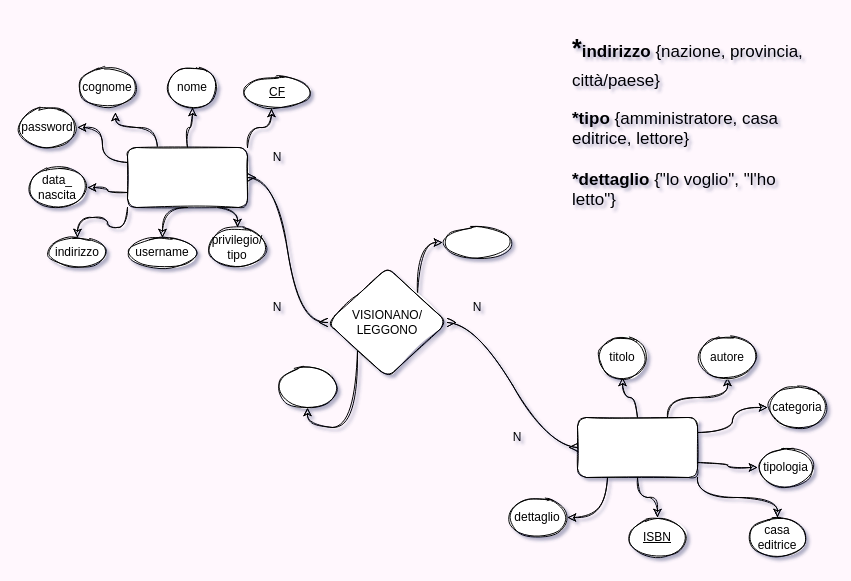
Some shapes in this 851 by 581 pixel diagram are drawn without their labels. Here are the shapes that lost their labels. From the top down, the centre of each, then its label:
At (x=187, y=177): "UTENTI".
At (x=477, y=242): "data_inizio".
At (x=307, y=387): "data_fine".
At (x=637, y=447): "LIBRO".
